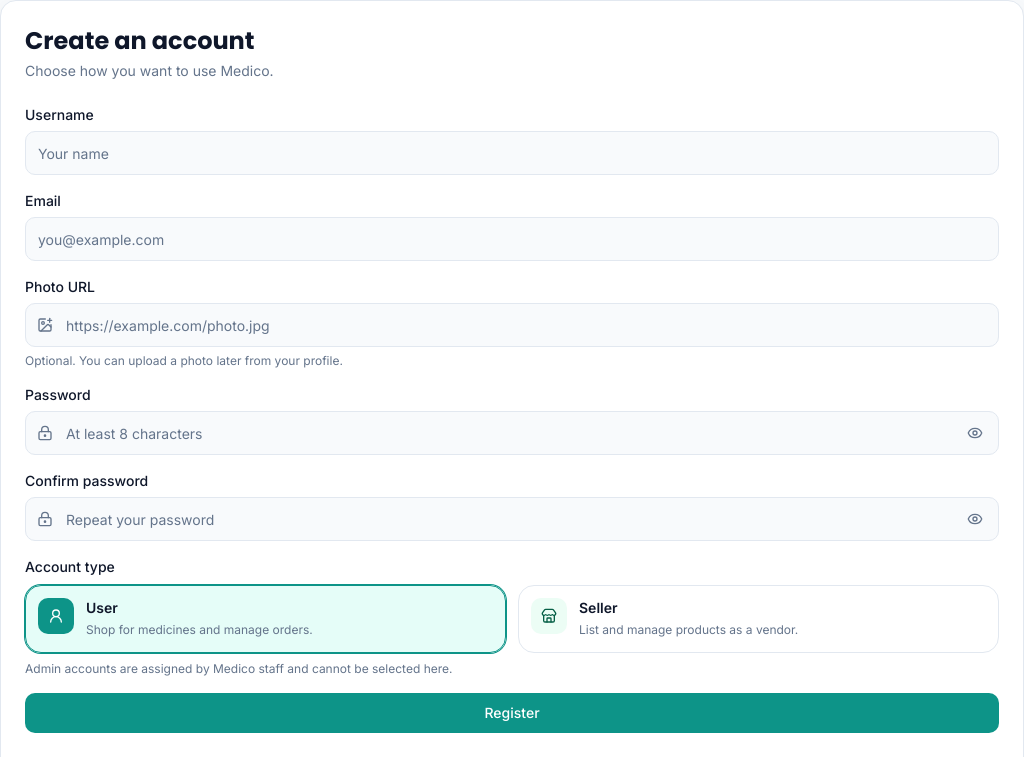
Test: registration page › redirects to login after a successful registration
Type "Asha Patel" into the field labelled "Username".
click(512, 153); type("Asha Patel")  # box [25,131,999,175]
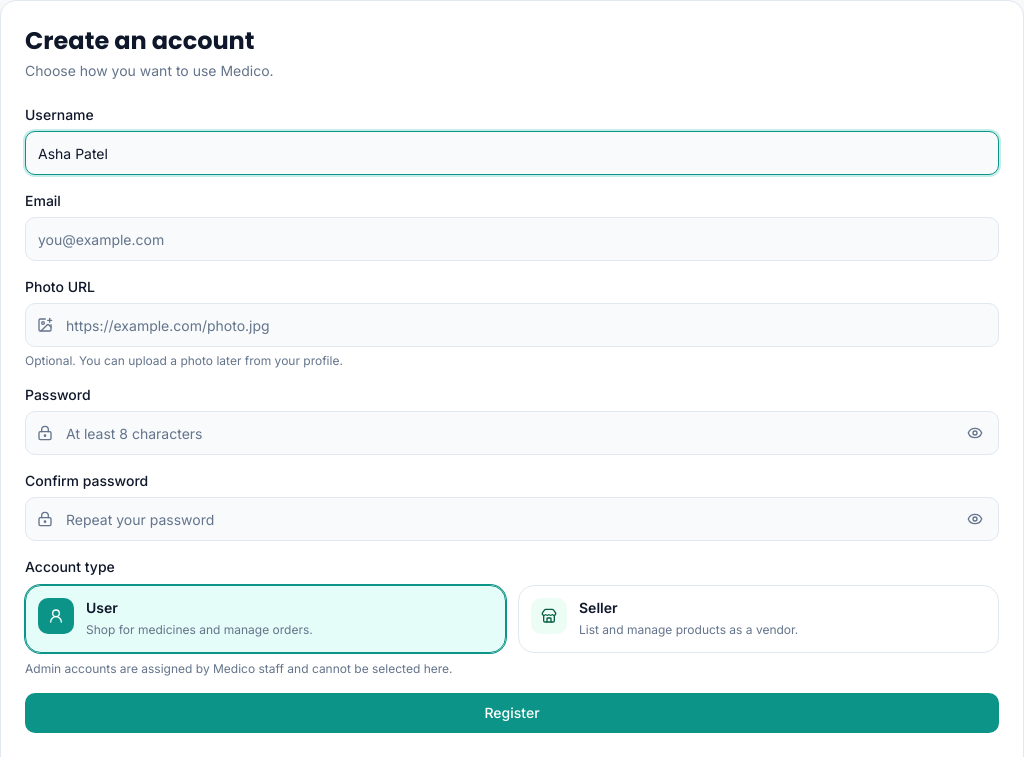
Type "asha@example.com" into the field labelled "Email".
click(512, 239); type("asha@example.com")  # box [25,217,999,261]
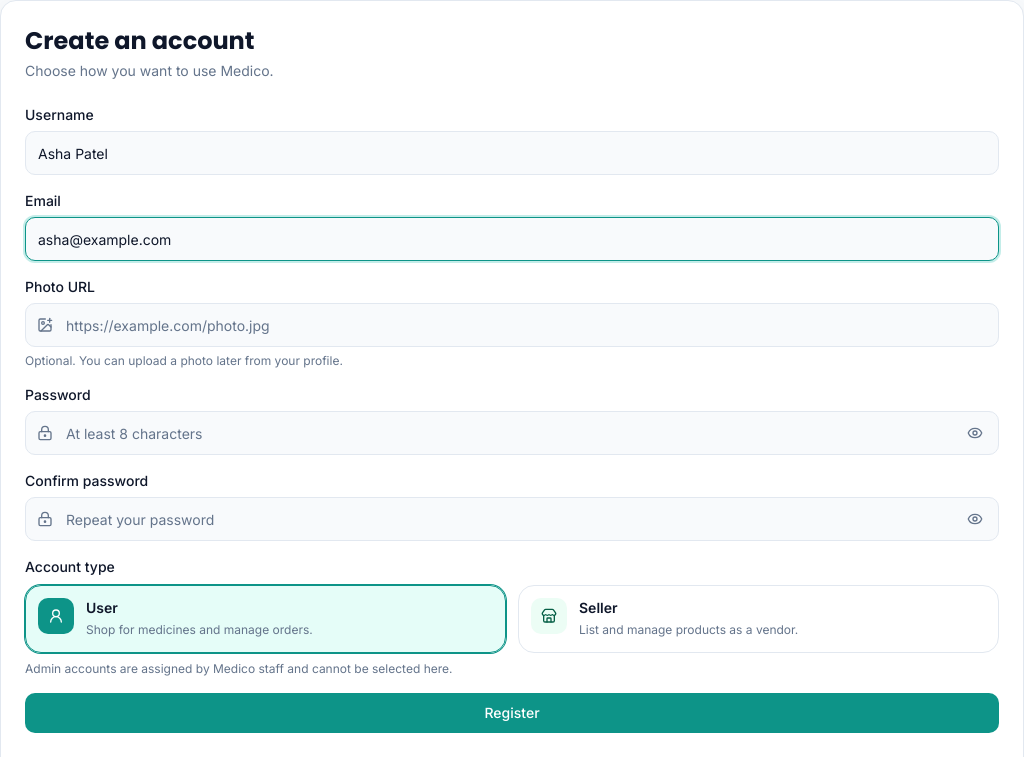
Type "StrongPass1" into the password field labelled "Password".
click(512, 433); type("StrongPass1")  # box [25,411,999,455]
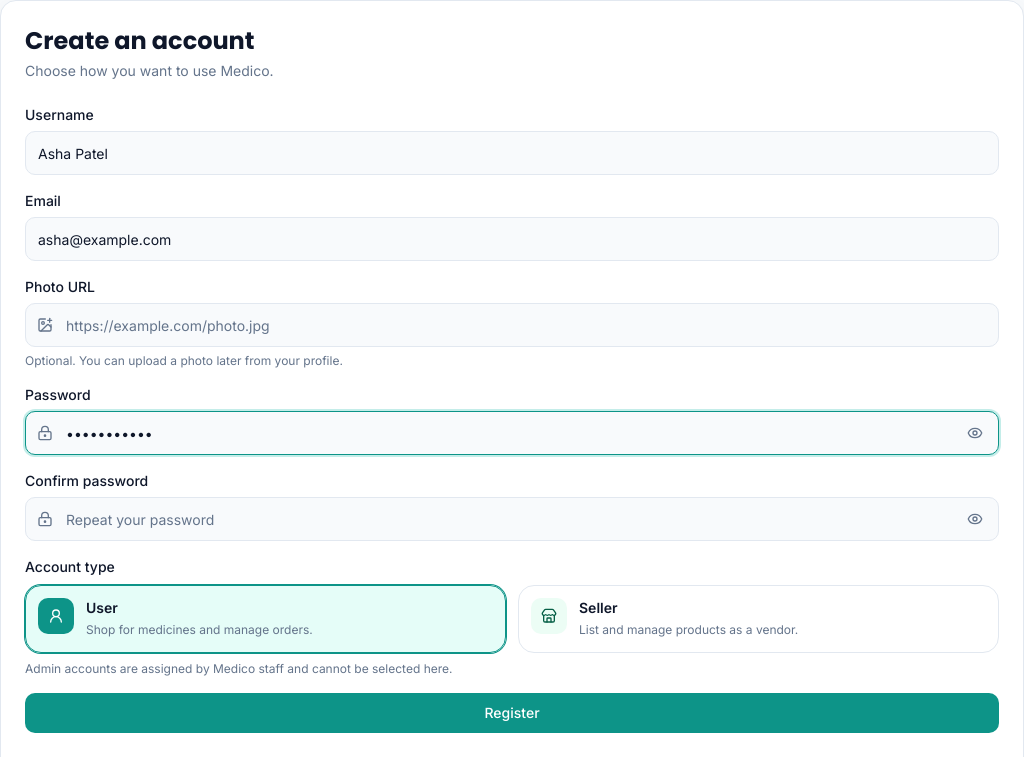
Type "StrongPass1" into the password field labelled "Confirm password".
click(512, 519); type("StrongPass1")  # box [25,497,999,541]
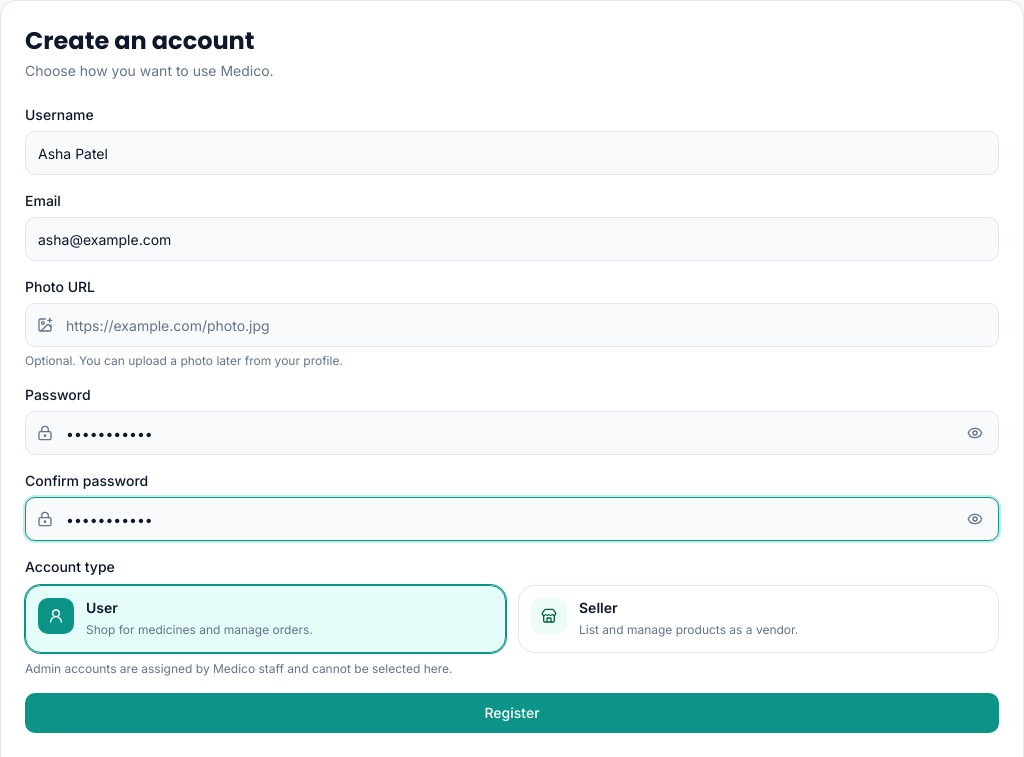
Click the button "Register".
click(512, 712)  # box [25,692,999,732]
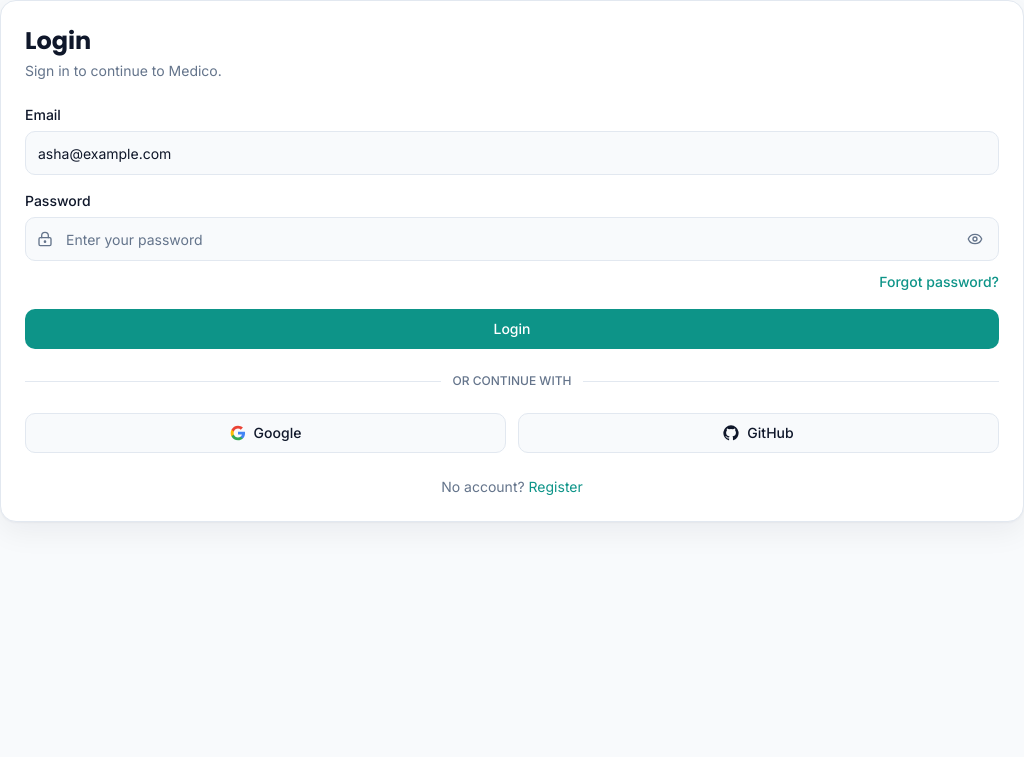
Expected: the field labelled "Email" holds "asha@example.com", [25,131,999,175]
Expected: the heading "Login" is shown, [25,24,91,57]
